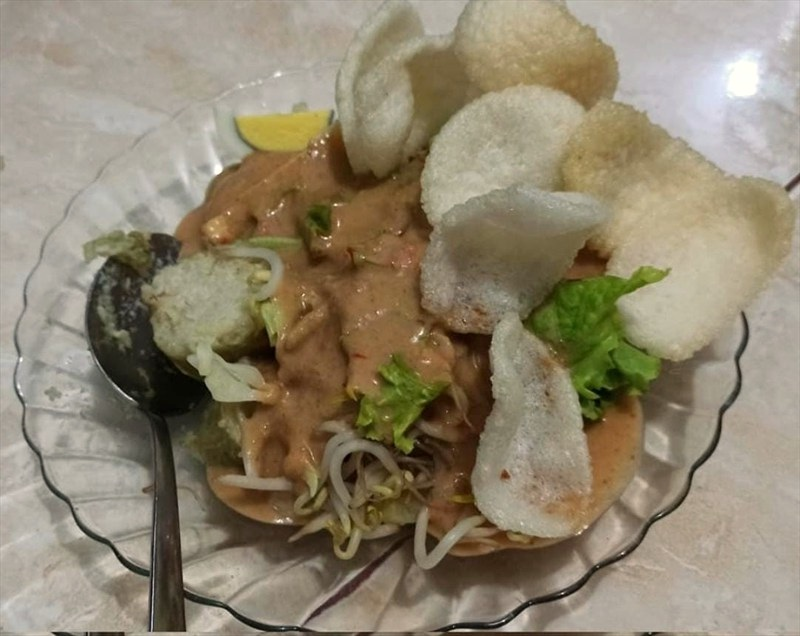Gado-Gado: (97, 142, 658, 595)
